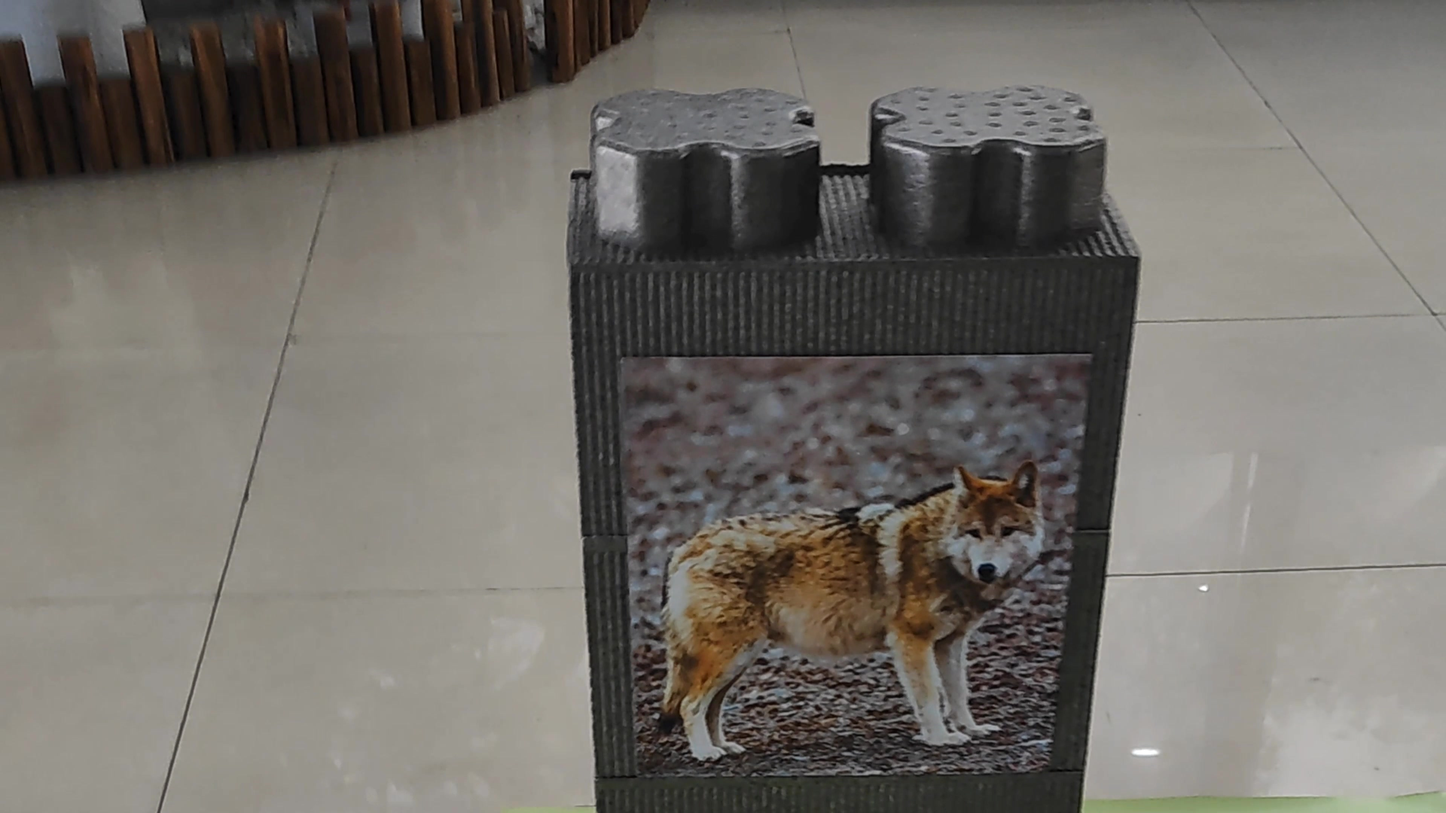wolf: (641, 429, 1060, 767)
